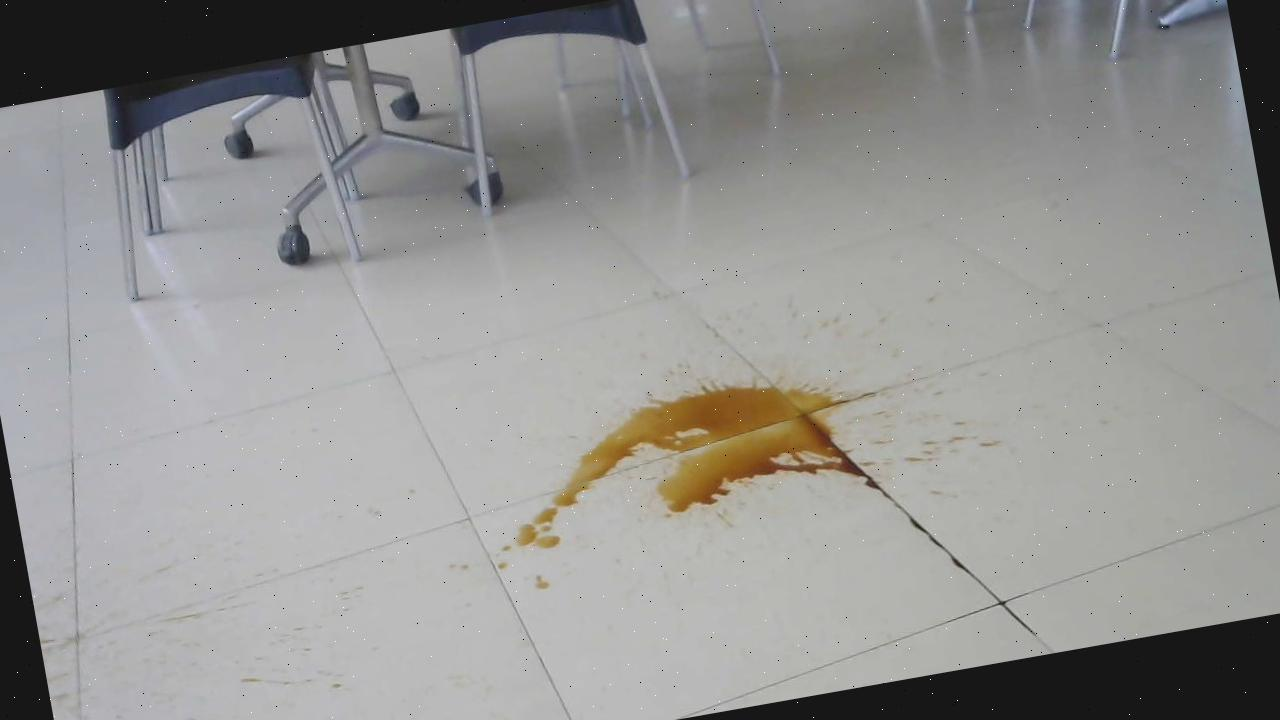dirty_floor: (440, 323, 977, 598)
